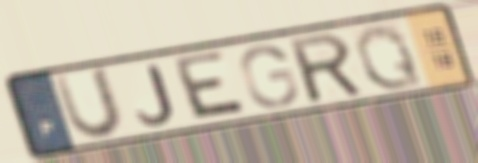E: (172, 48, 252, 123)
G: (237, 43, 302, 110)
J: (134, 62, 178, 127)
Q: (351, 22, 427, 93)
R: (285, 30, 368, 106)
U: (49, 64, 128, 142)
